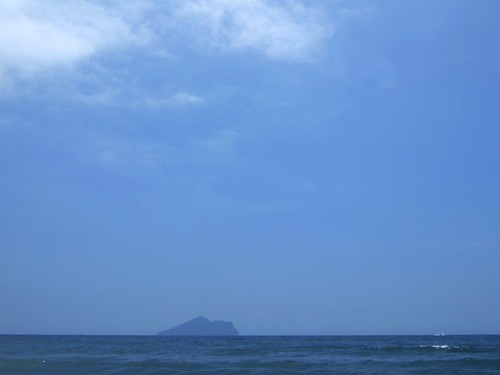turtleIsland: (155, 314, 240, 338)
